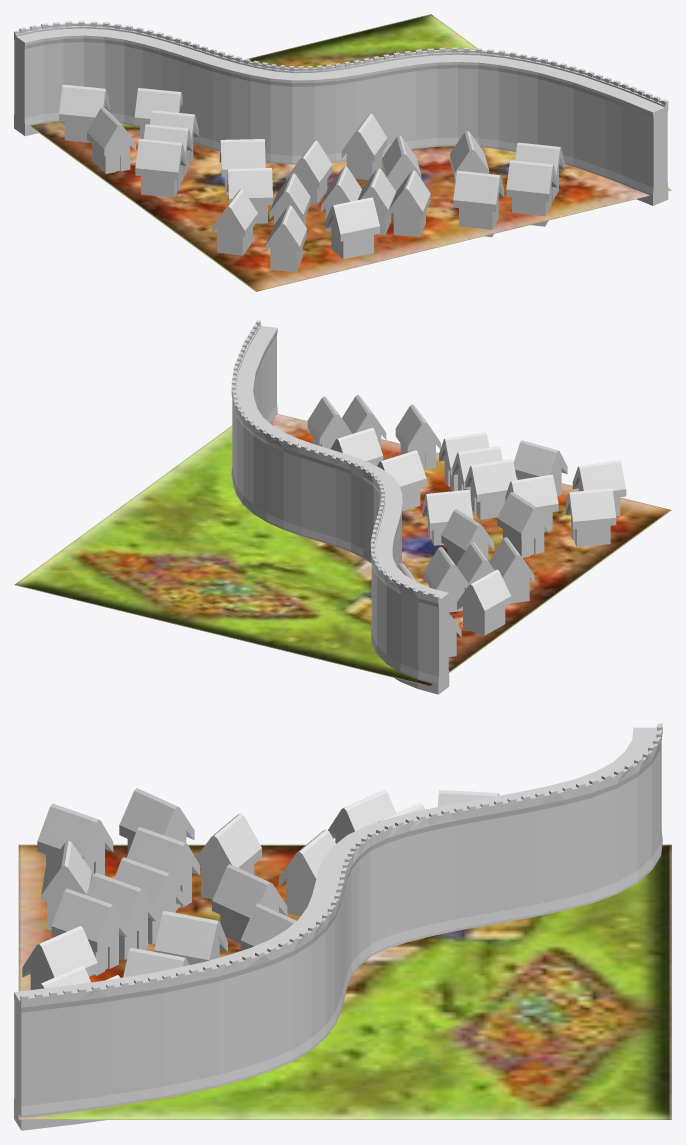
File: tile12.fbx
The picture shows the model from 3 angles, top to bottom: view 1: azimuth 30°, elevation 25°; view 2: azimuth 150°, elevation 25°; view 3: azimuth 270°, elevation 25°; orthographic projection. The views are drawn at different scales.
Parts seen in each view (by area): view 1: tile12; view 2: tile12; view 3: tile12.
Part boxes in pixels (x1=…): tile12: x1=14, y1=14, x2=671, y2=291; tile12: x1=14, y1=320, x2=671, y2=694; tile12: x1=14, y1=723, x2=671, y2=1130.
Size of the model in its own units: 100 by 22.66 by 100.
